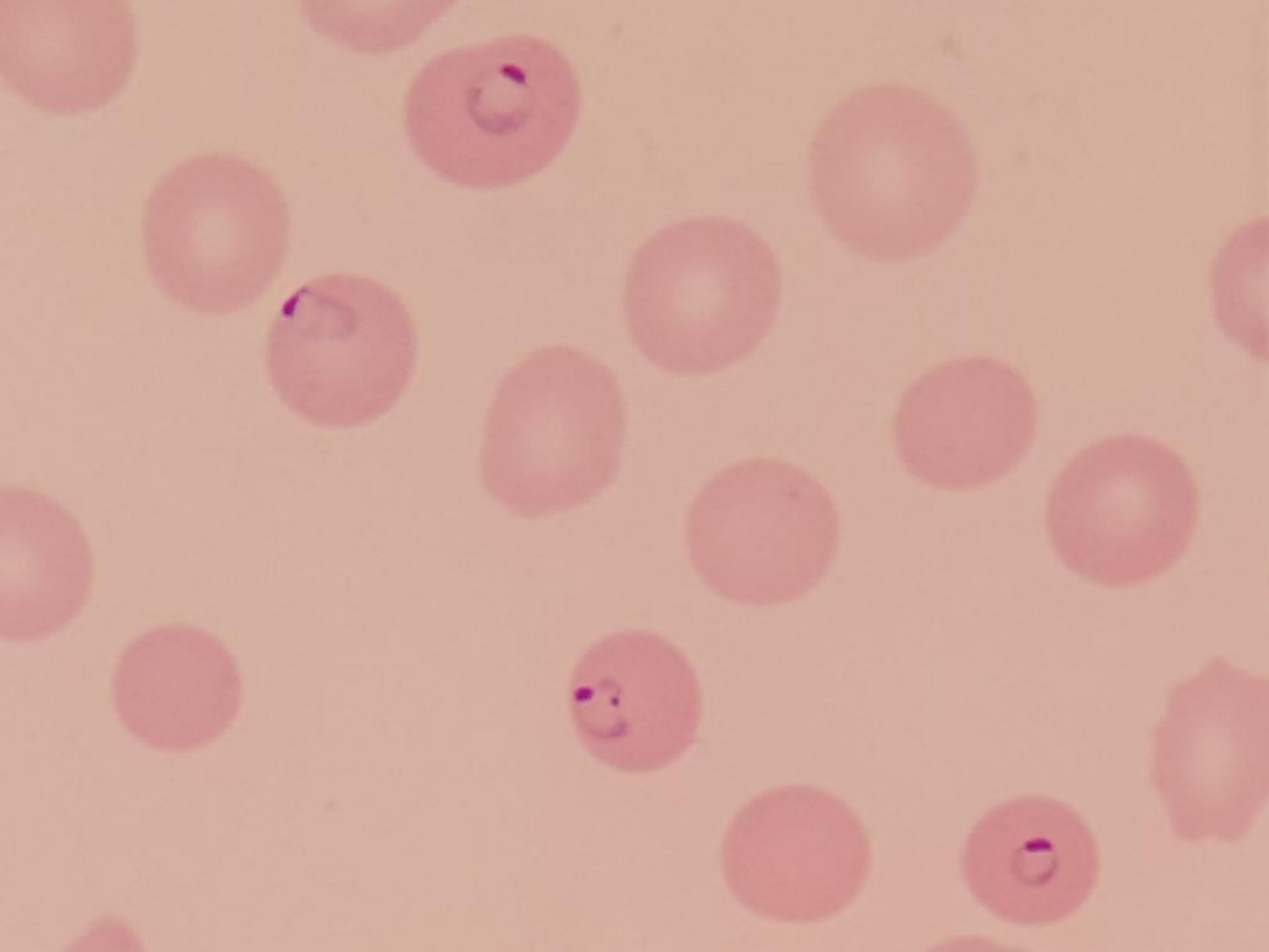Infected: (408, 30, 576, 195), (264, 270, 417, 427), (567, 633, 703, 775), (963, 795, 1102, 927)
Uninfected: (808, 86, 975, 266), (474, 342, 629, 518), (137, 154, 292, 315), (625, 220, 782, 373), (1046, 435, 1199, 589), (1148, 659, 1269, 845), (692, 461, 840, 608), (725, 788, 868, 926), (894, 362, 1034, 488), (0, 0, 140, 115), (117, 623, 245, 748), (0, 483, 95, 643)
